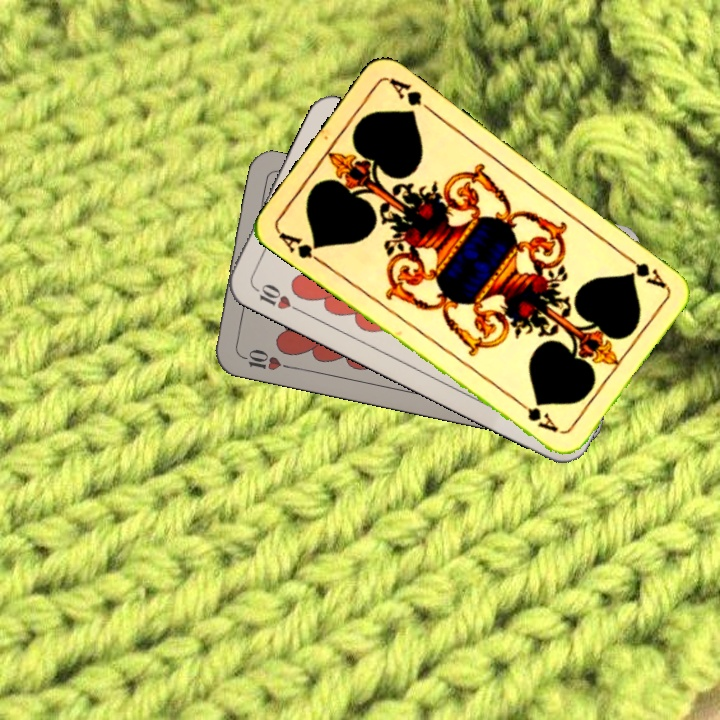GA: (618, 248, 669, 291), (274, 228, 327, 268)
H10: (248, 279, 303, 315), (234, 345, 293, 373)
